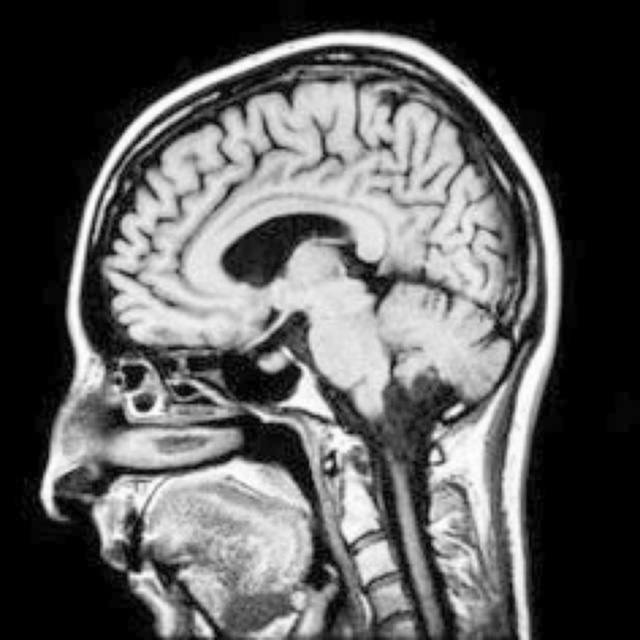glioma tumor: (127, 117, 518, 621)
